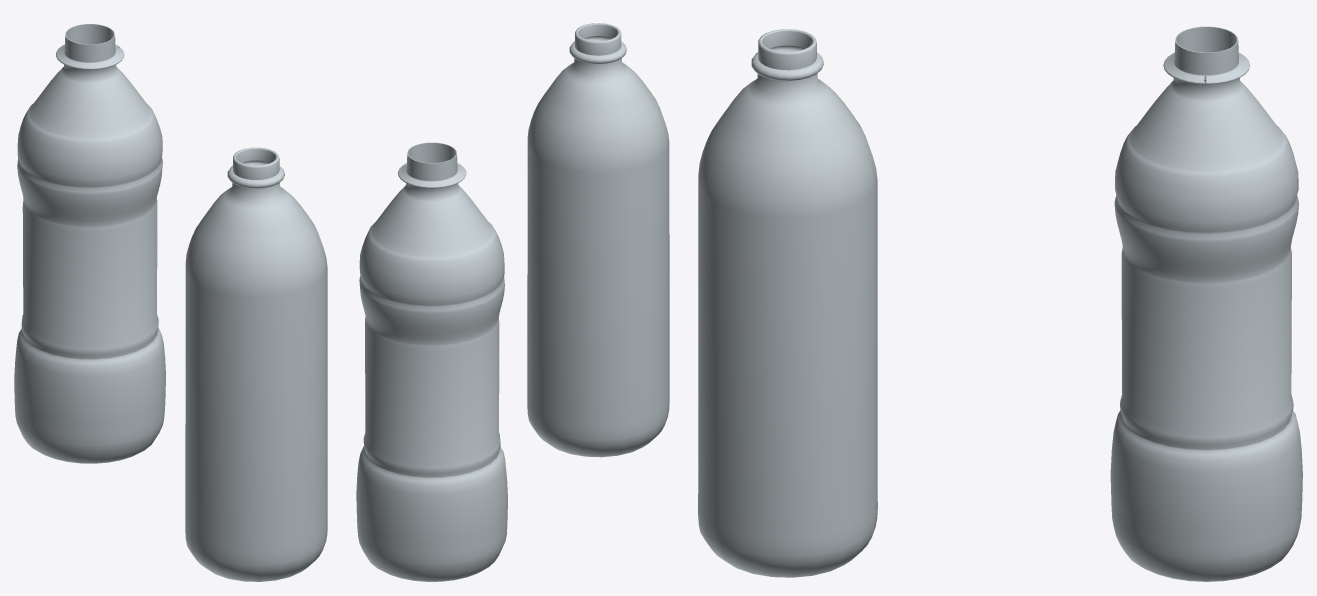
File: SM_water_bottles.fbx
3 views of the same model, side by side, from view 1: azimuth 30°, elevation 25°; view 2: azimuth 150°, elevation 25°; view 3: azimuth 270°, elevation 25° (orthographic). The views are drawn at different scales.
Parts seen in each view (by area): view 1: SM_Water_bottle_1, SM_Water_bottle_2; view 2: SM_Water_bottle_1, SM_Water_bottle_2; view 3: SM_Water_bottle_1, SM_Water_bottle_2.
Boxes of the visible parts, <box> form: SM_Water_bottle_1: <box>14,24,165,463</box>; SM_Water_bottle_2: <box>185,147,327,581</box>; SM_Water_bottle_1: <box>356,142,507,581</box>; SM_Water_bottle_2: <box>527,23,669,457</box>; SM_Water_bottle_1: <box>1110,26,1302,581</box>; SM_Water_bottle_2: <box>698,29,877,577</box>.
Size of the model in its own units: 10.38 by 31.58 by 32.66.
2 materials, 2 textured.
